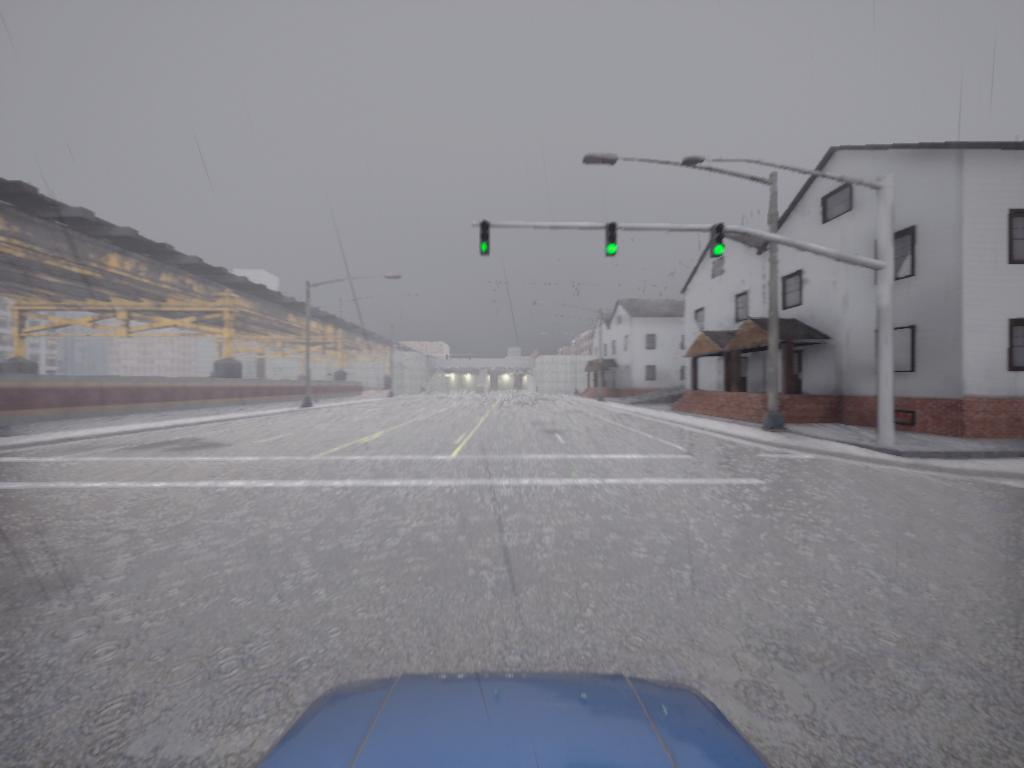traffic_light: (712, 227, 728, 260), (478, 222, 493, 256), (605, 224, 620, 257)
